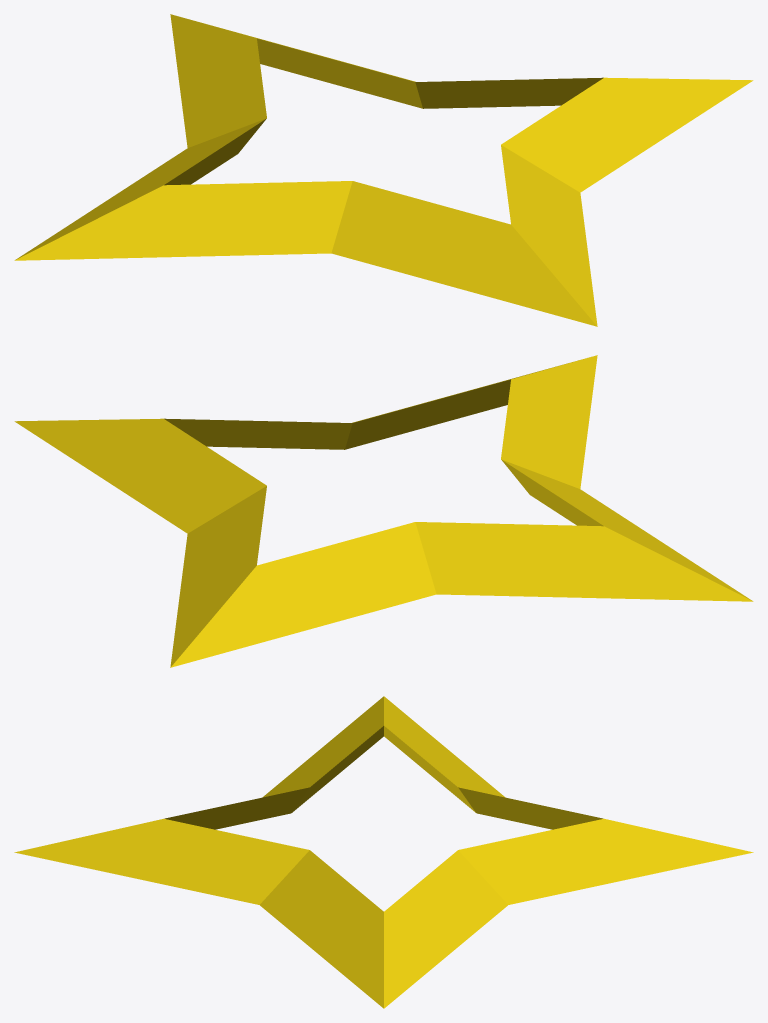
Rendered from Kanata.glb.
3 renders of one model, top to bottom at view 1: azimuth 30°, elevation 25°; view 2: azimuth 150°, elevation 25°; view 3: azimuth 270°, elevation 25°, orthographic. The views are drawn at different scales.
Visible parts, largest first — view 1: Glow; view 2: Glow; view 3: Glow.
Boxes of the visible parts, left/top/right/bottom form: Glow: left=14, top=14, right=753, bottom=326; Glow: left=14, top=355, right=753, bottom=667; Glow: left=14, top=696, right=753, bottom=1008.
Size of the model in its own units: 2 by 0.1007 by 2.
